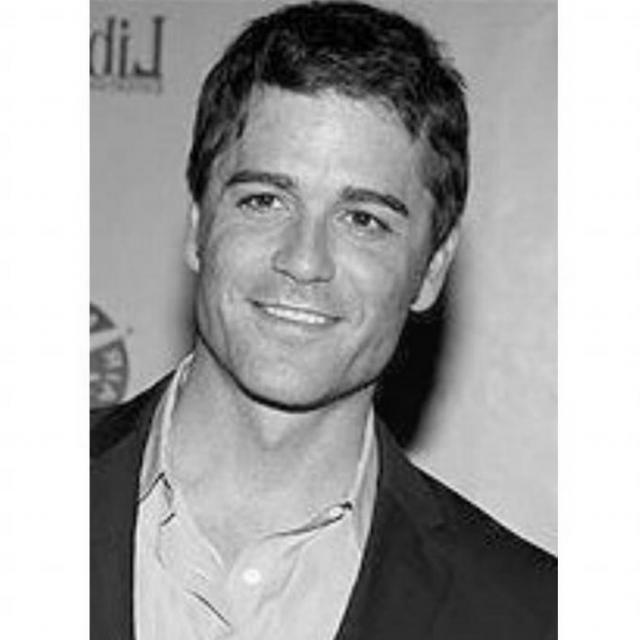real: (184, 52, 456, 420)
